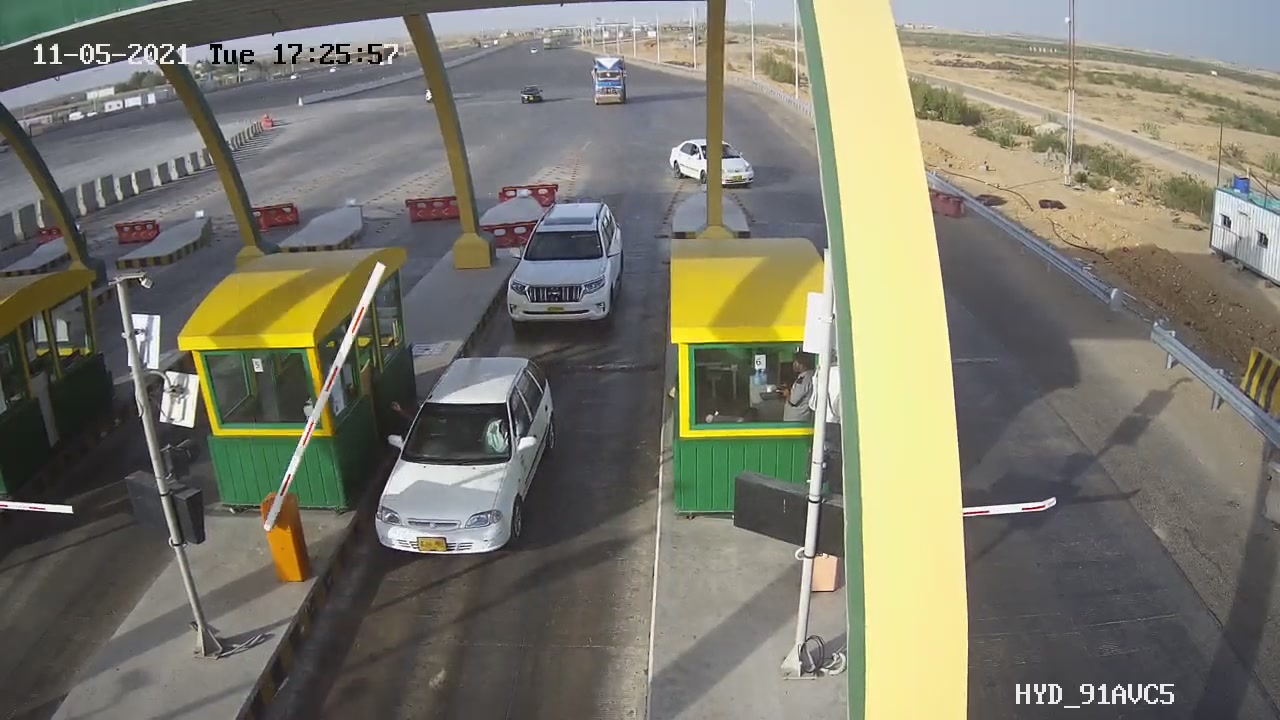F1: (353, 336, 585, 578), (495, 186, 647, 342)
